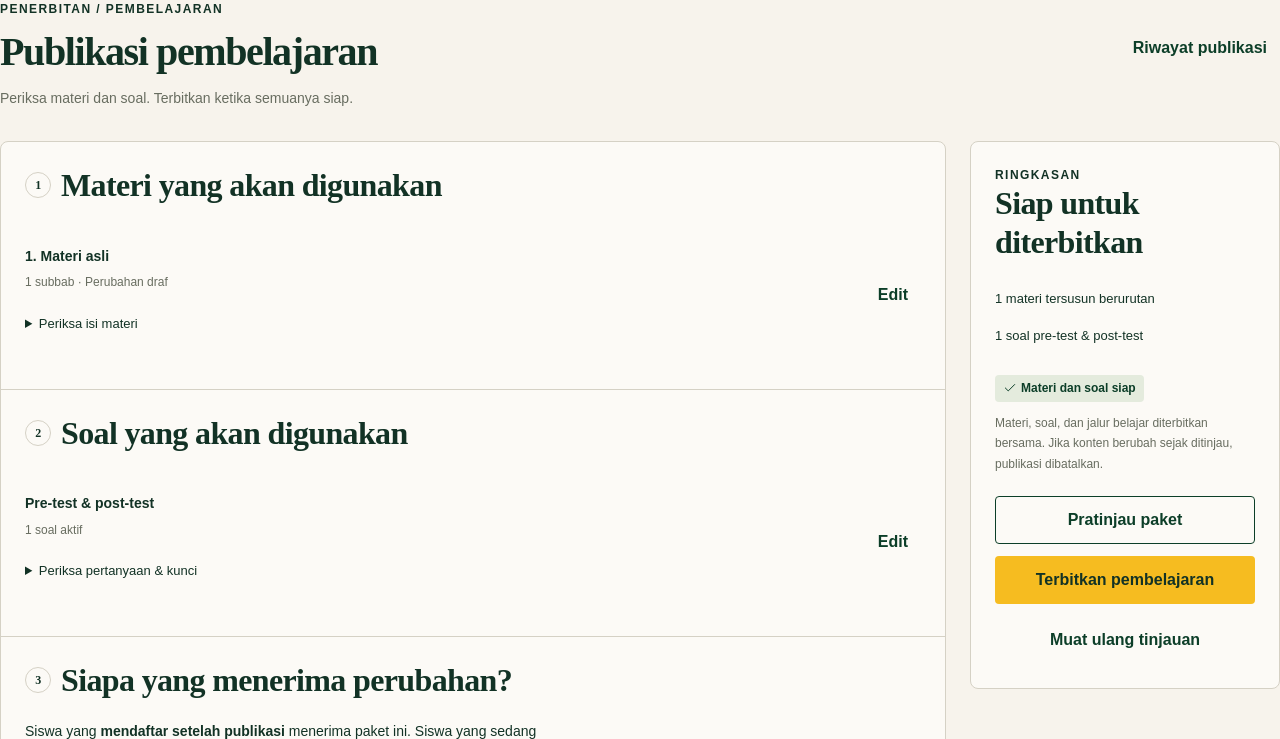
publication confirms the exact reviewed revision set, and failure keeps the review visible
Click the button "Terbitkan pembelajaran" at (1125, 580), box [995, 556, 1255, 604]
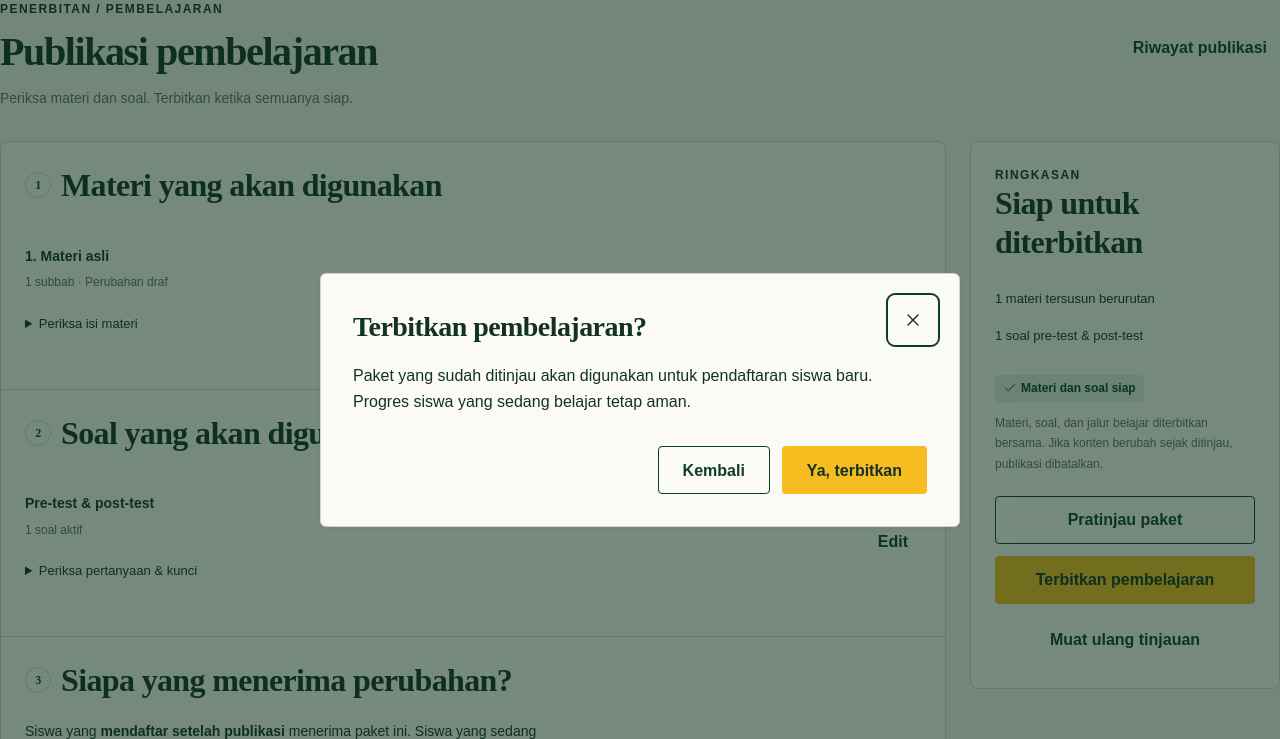
Click the button "Ya, terbitkan" at (854, 470), box [782, 446, 927, 494]
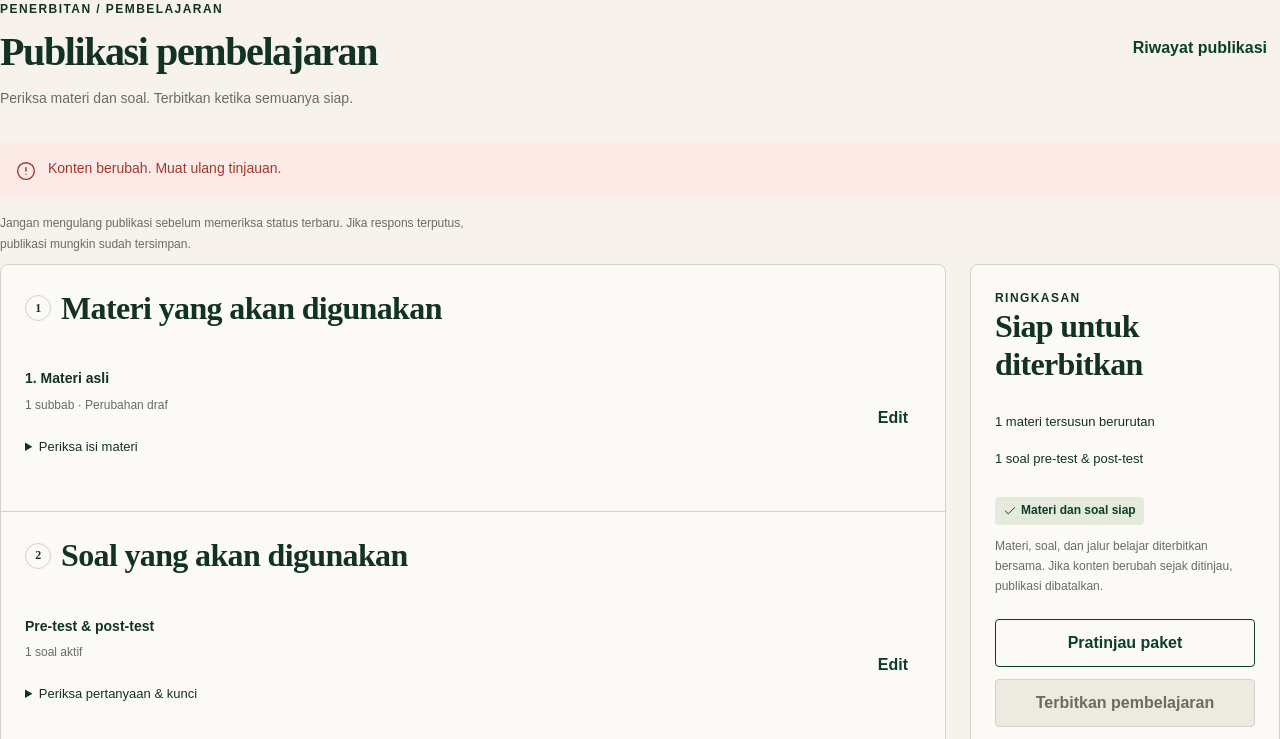
Expected: the heading "Terbitkan pembelajaran?" is not shown
Result: the button "Terbitkan pembelajaran" is disabled at [995, 679, 1255, 727]
